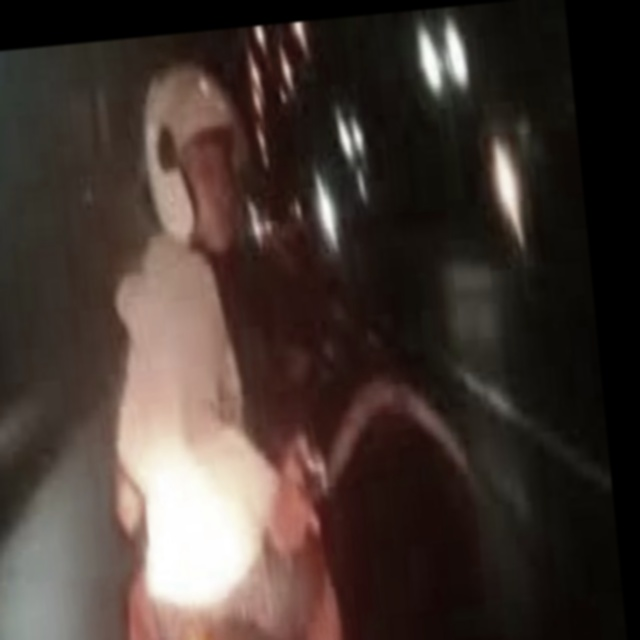Sharp-Object: (283, 310, 487, 611)
